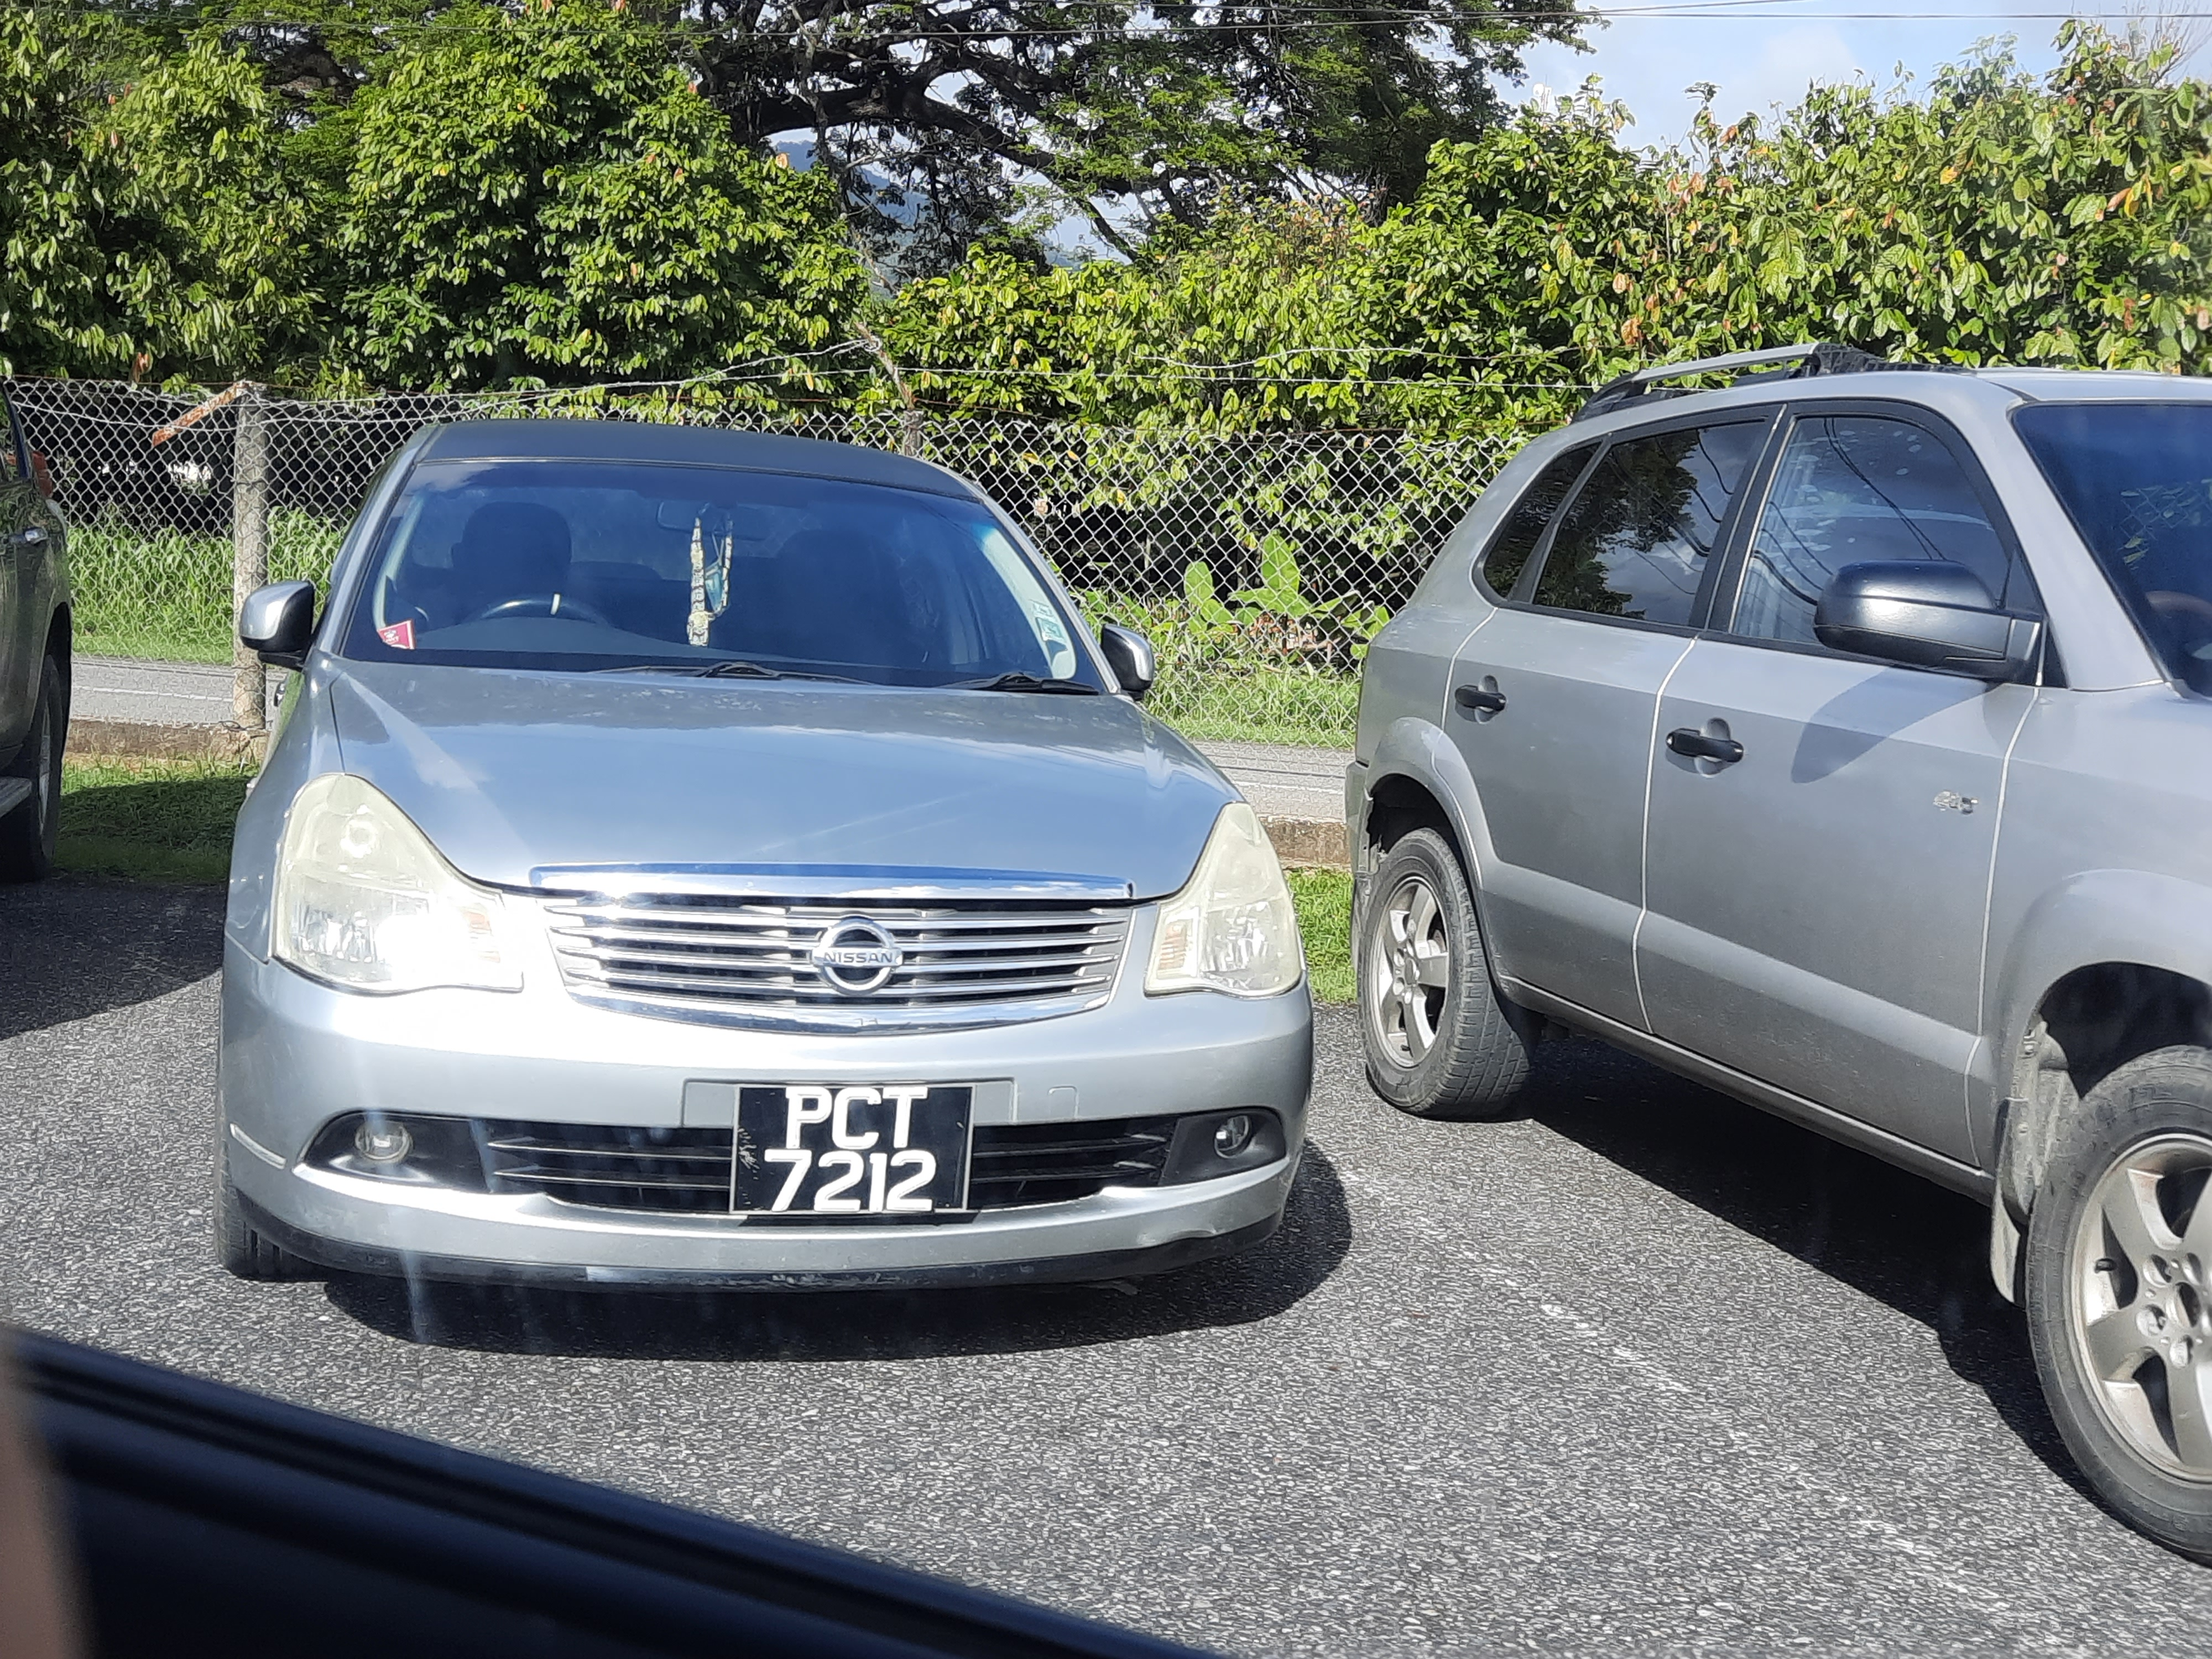License-Plate: (728, 1080, 975, 1218)
